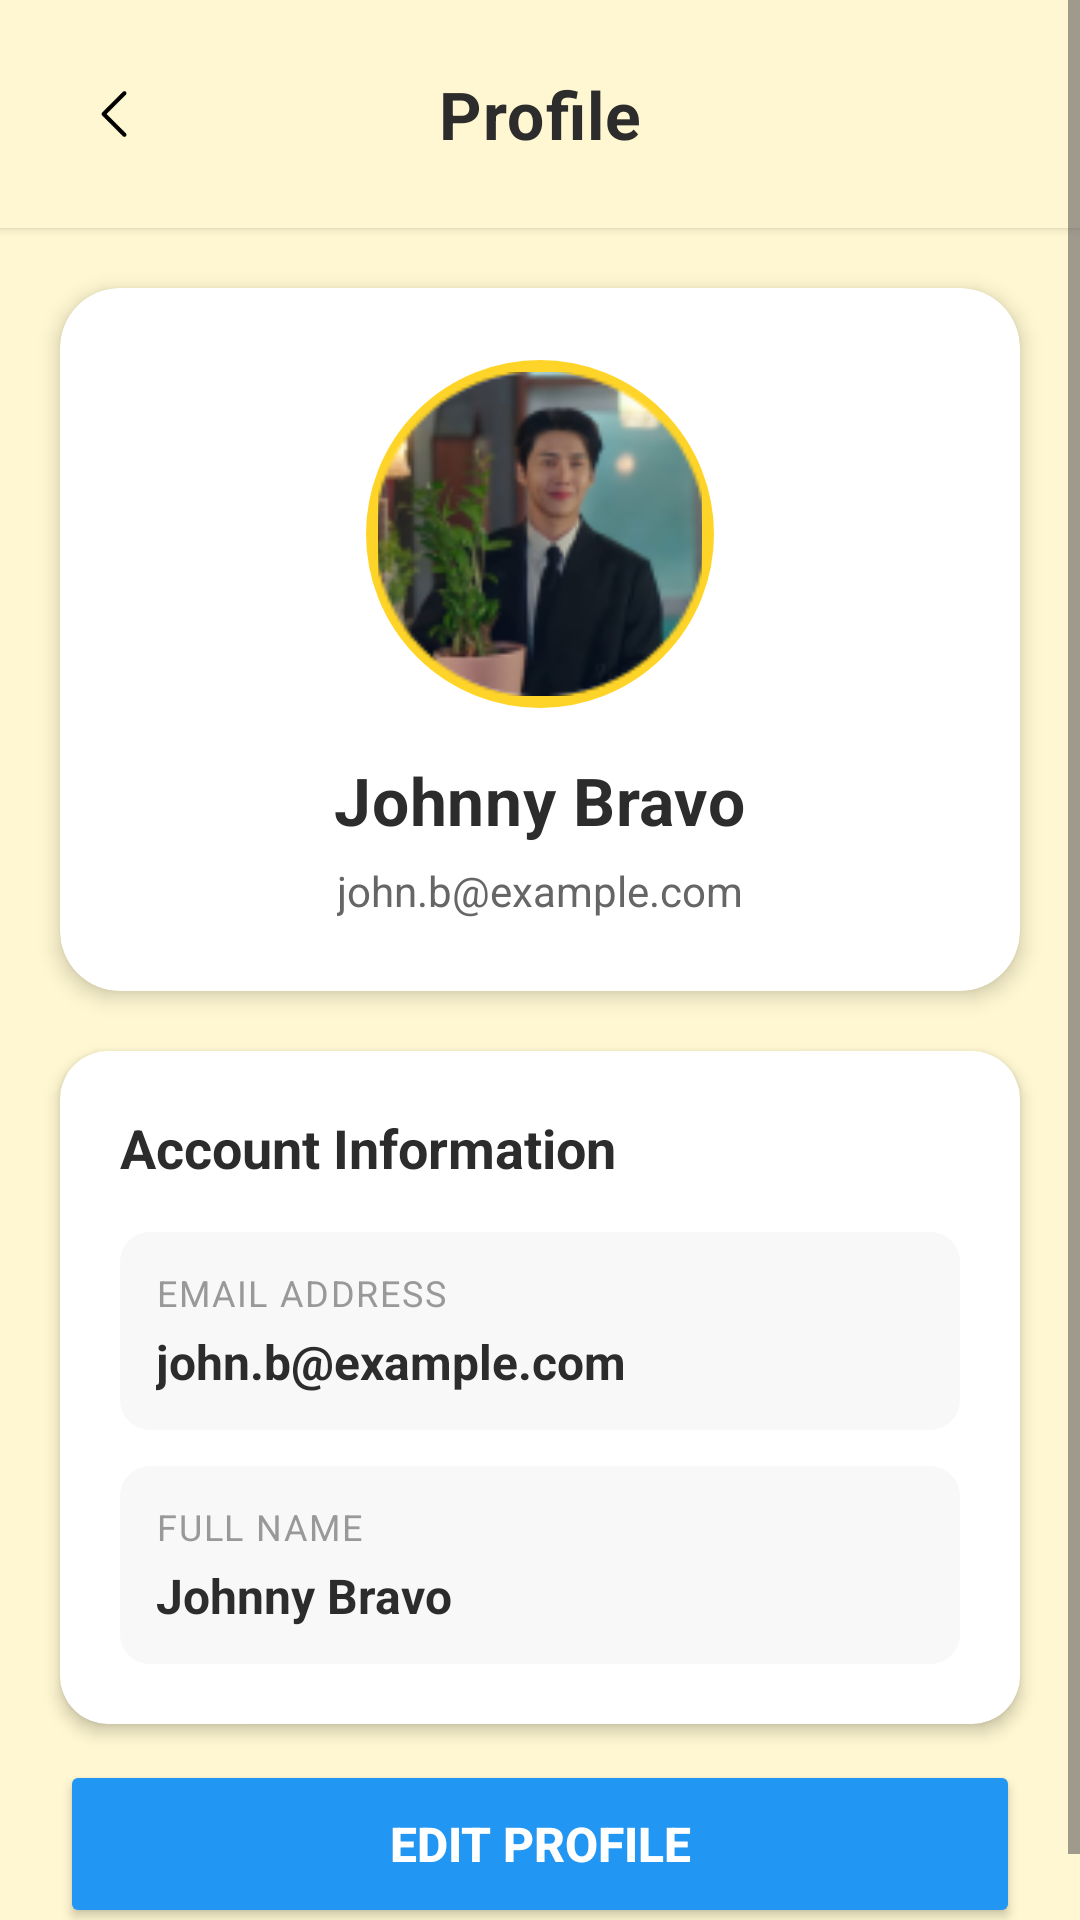

Icon bounding boxes for this 1080w x 1920h phone screenshot, format [x1=x1, y1=y1, x2=x2, y2=y2]:
Back: [x1=101, y1=91, x2=127, y2=137]
